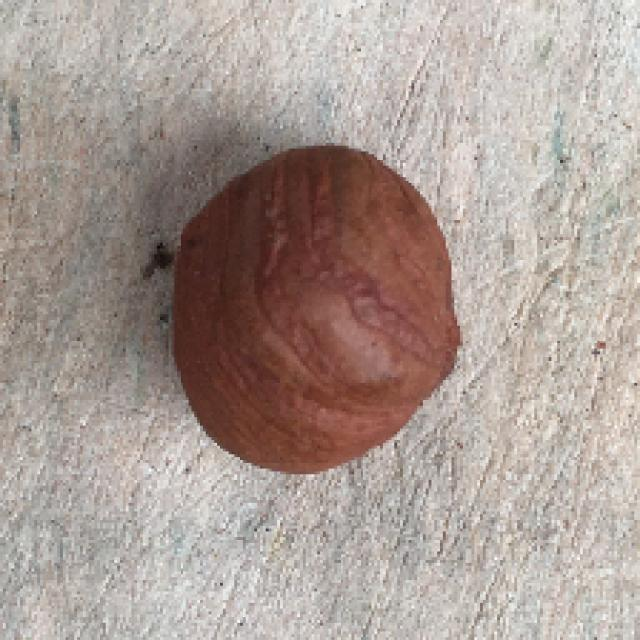hazelnut: (176, 135, 472, 469)
